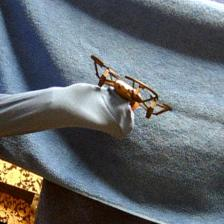drone: (91, 55, 175, 122)
